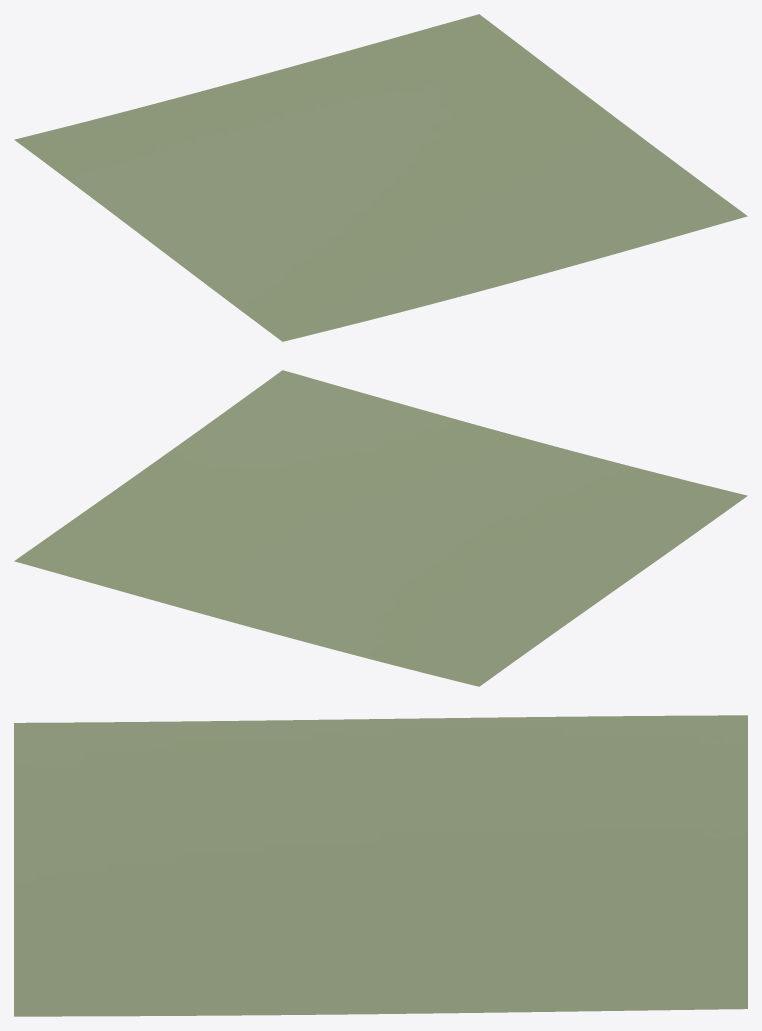
Rendered from expanse-2-29.glb.
3 renders of one model, top to bottom at view 1: azimuth 30°, elevation 25°; view 2: azimuth 150°, elevation 25°; view 3: azimuth 270°, elevation 25°, orthographic. The views are drawn at different scales.
Parts seen in each view (by area): view 1: expanse-2-29; view 2: expanse-2-29; view 3: expanse-2-29.
Boxes of the visible parts, <box> form: expanse-2-29: <box>14,14,747,341</box>; expanse-2-29: <box>14,370,747,686</box>; expanse-2-29: <box>14,715,747,1016</box>.
Bounding box in the file's own units: 256 × 9.24 × 256.
